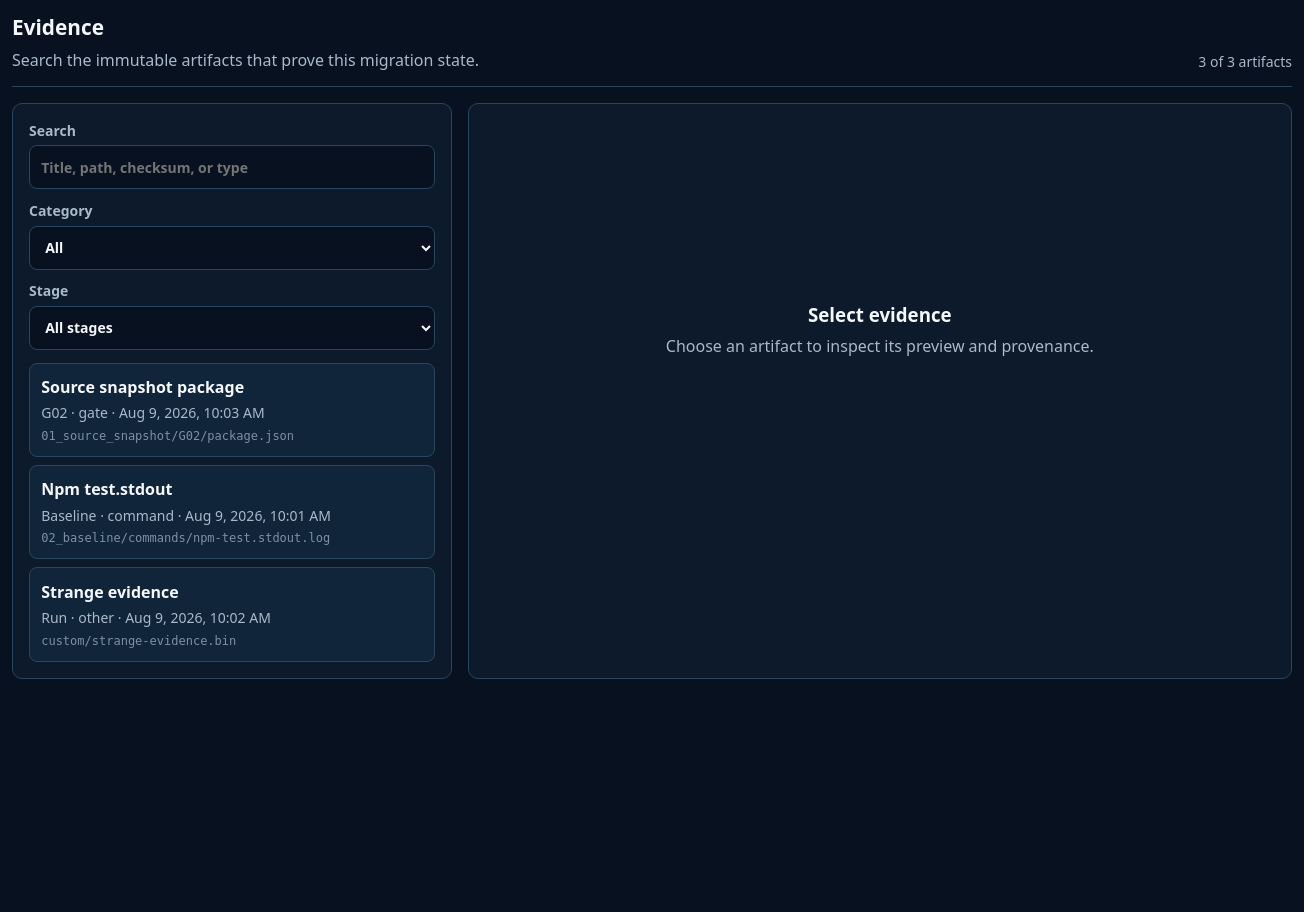
Test: EvidenceWorkspace › reports an empty result set without inventing evidence
The width and height of the screenshot is (1304, 912).
Type "does-not-exist" into the search field named "Search evidence".
click(232, 167); type("does-not-exist")  # box [29,145,435,189]
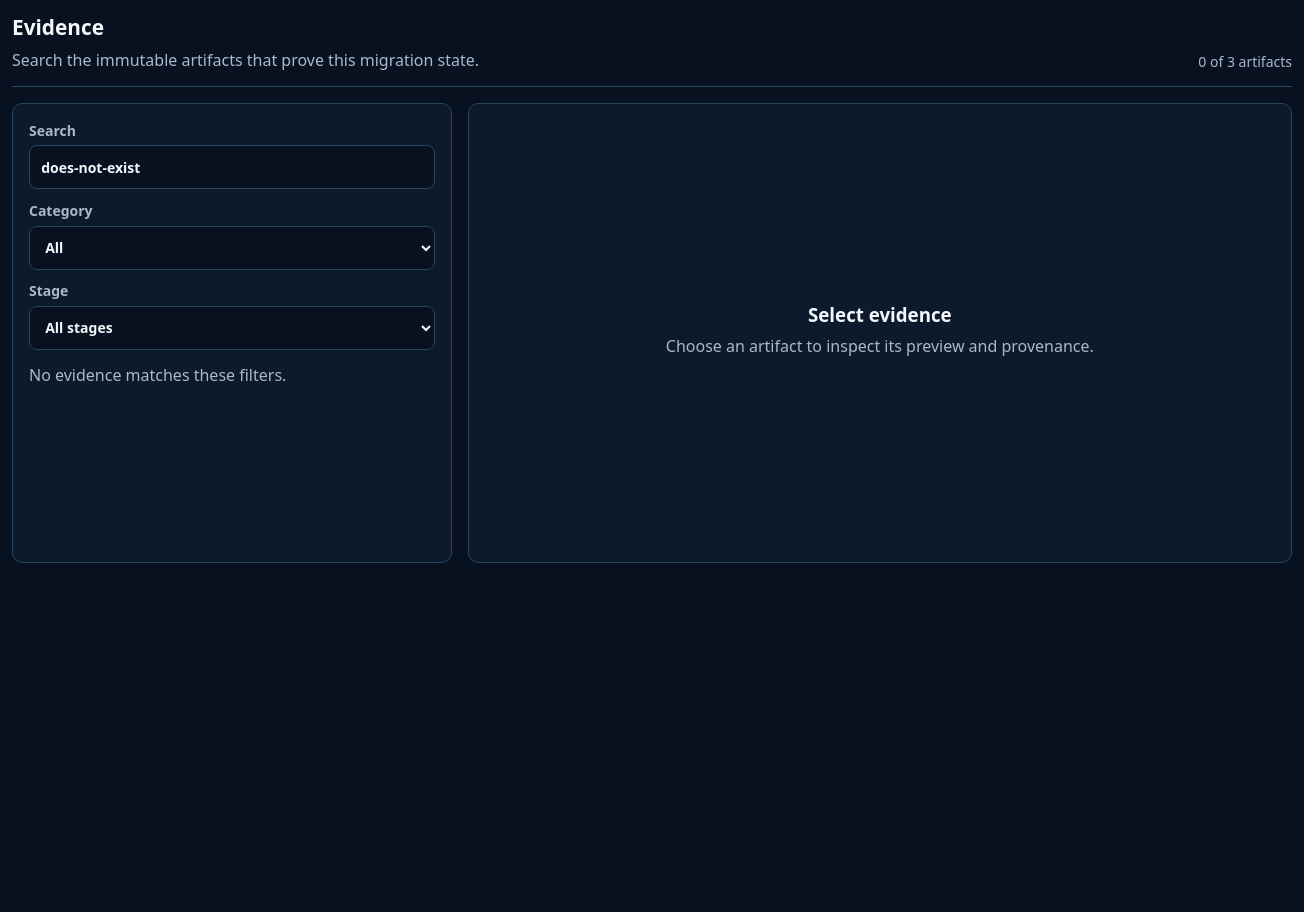
Result: the text "No evidence matches these filters." is shown at [29,364,286,386]
